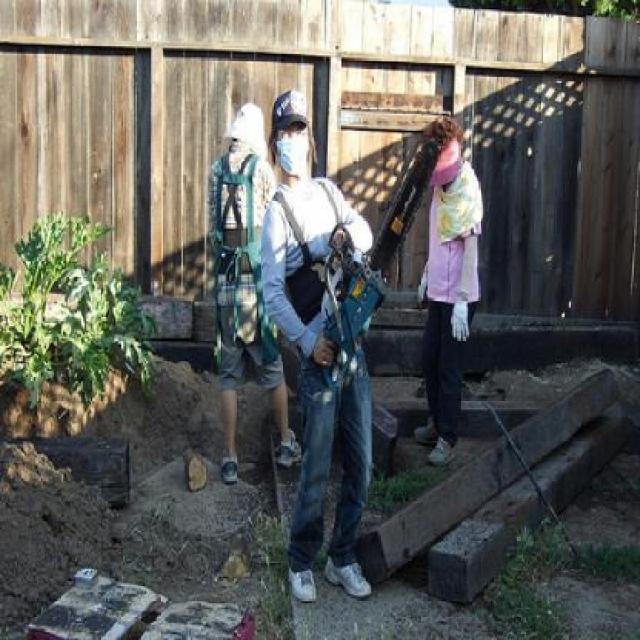Chainsaw: (322, 136, 442, 395)
